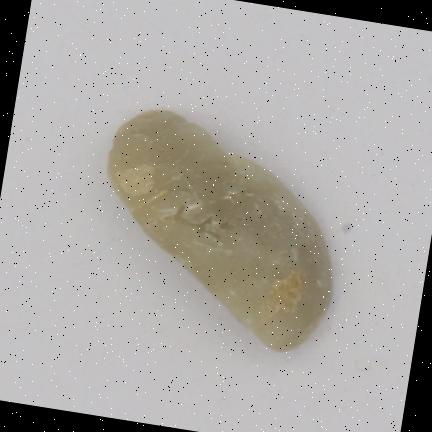cut: (108, 111, 331, 350)
